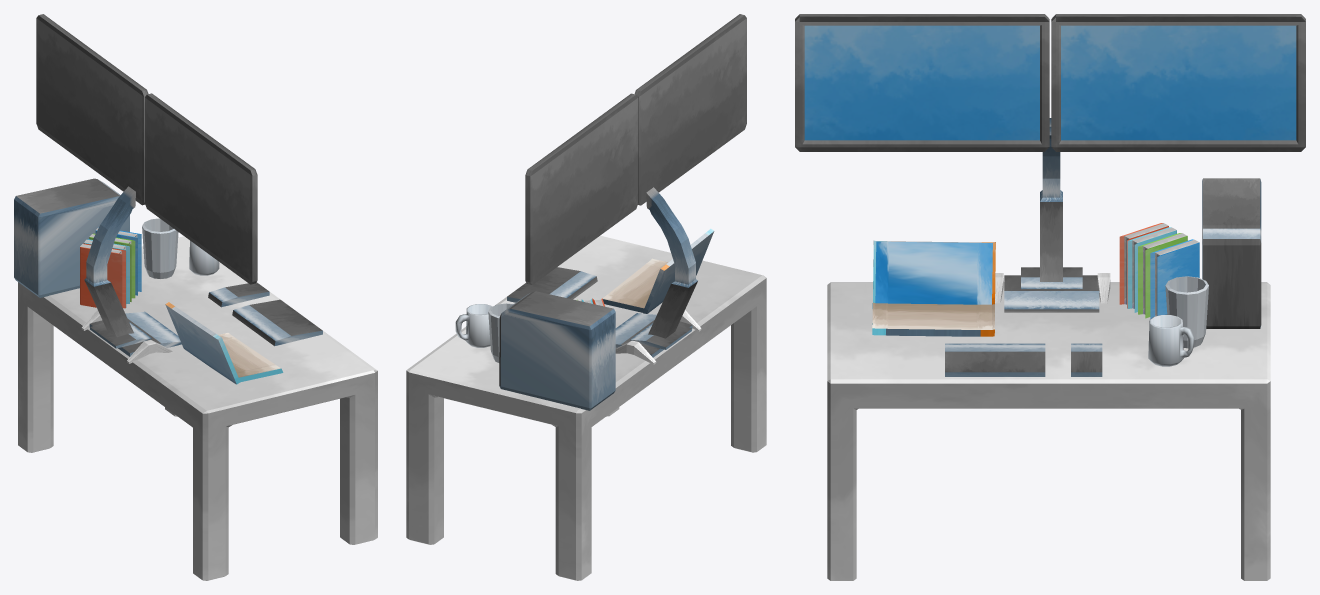
The model's file is Obj_DeskStudy.gltf.
3 views of the same model, side by side, from view 1: azimuth 30°, elevation 25°; view 2: azimuth 150°, elevation 25°; view 3: azimuth 270°, elevation 25° (orthographic). The views are drawn at different scales.
Parts seen in each view (by area): view 1: Obj_DeskStudy; view 2: Obj_DeskStudy; view 3: Obj_DeskStudy.
Part boxes in pixels (x1,y1,x2,y2): Obj_DeskStudy: (14, 14, 377, 580); Obj_DeskStudy: (406, 14, 766, 580); Obj_DeskStudy: (795, 14, 1305, 580).
Size of what is drawn, in the model's own units: 1.59 by 3.21 by 3.05.
1 material, 1 textured.
